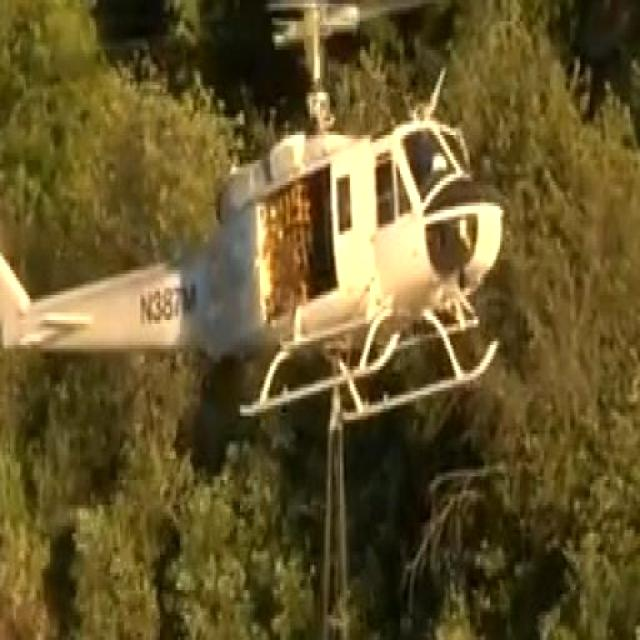drone: (0, 0, 511, 434)
